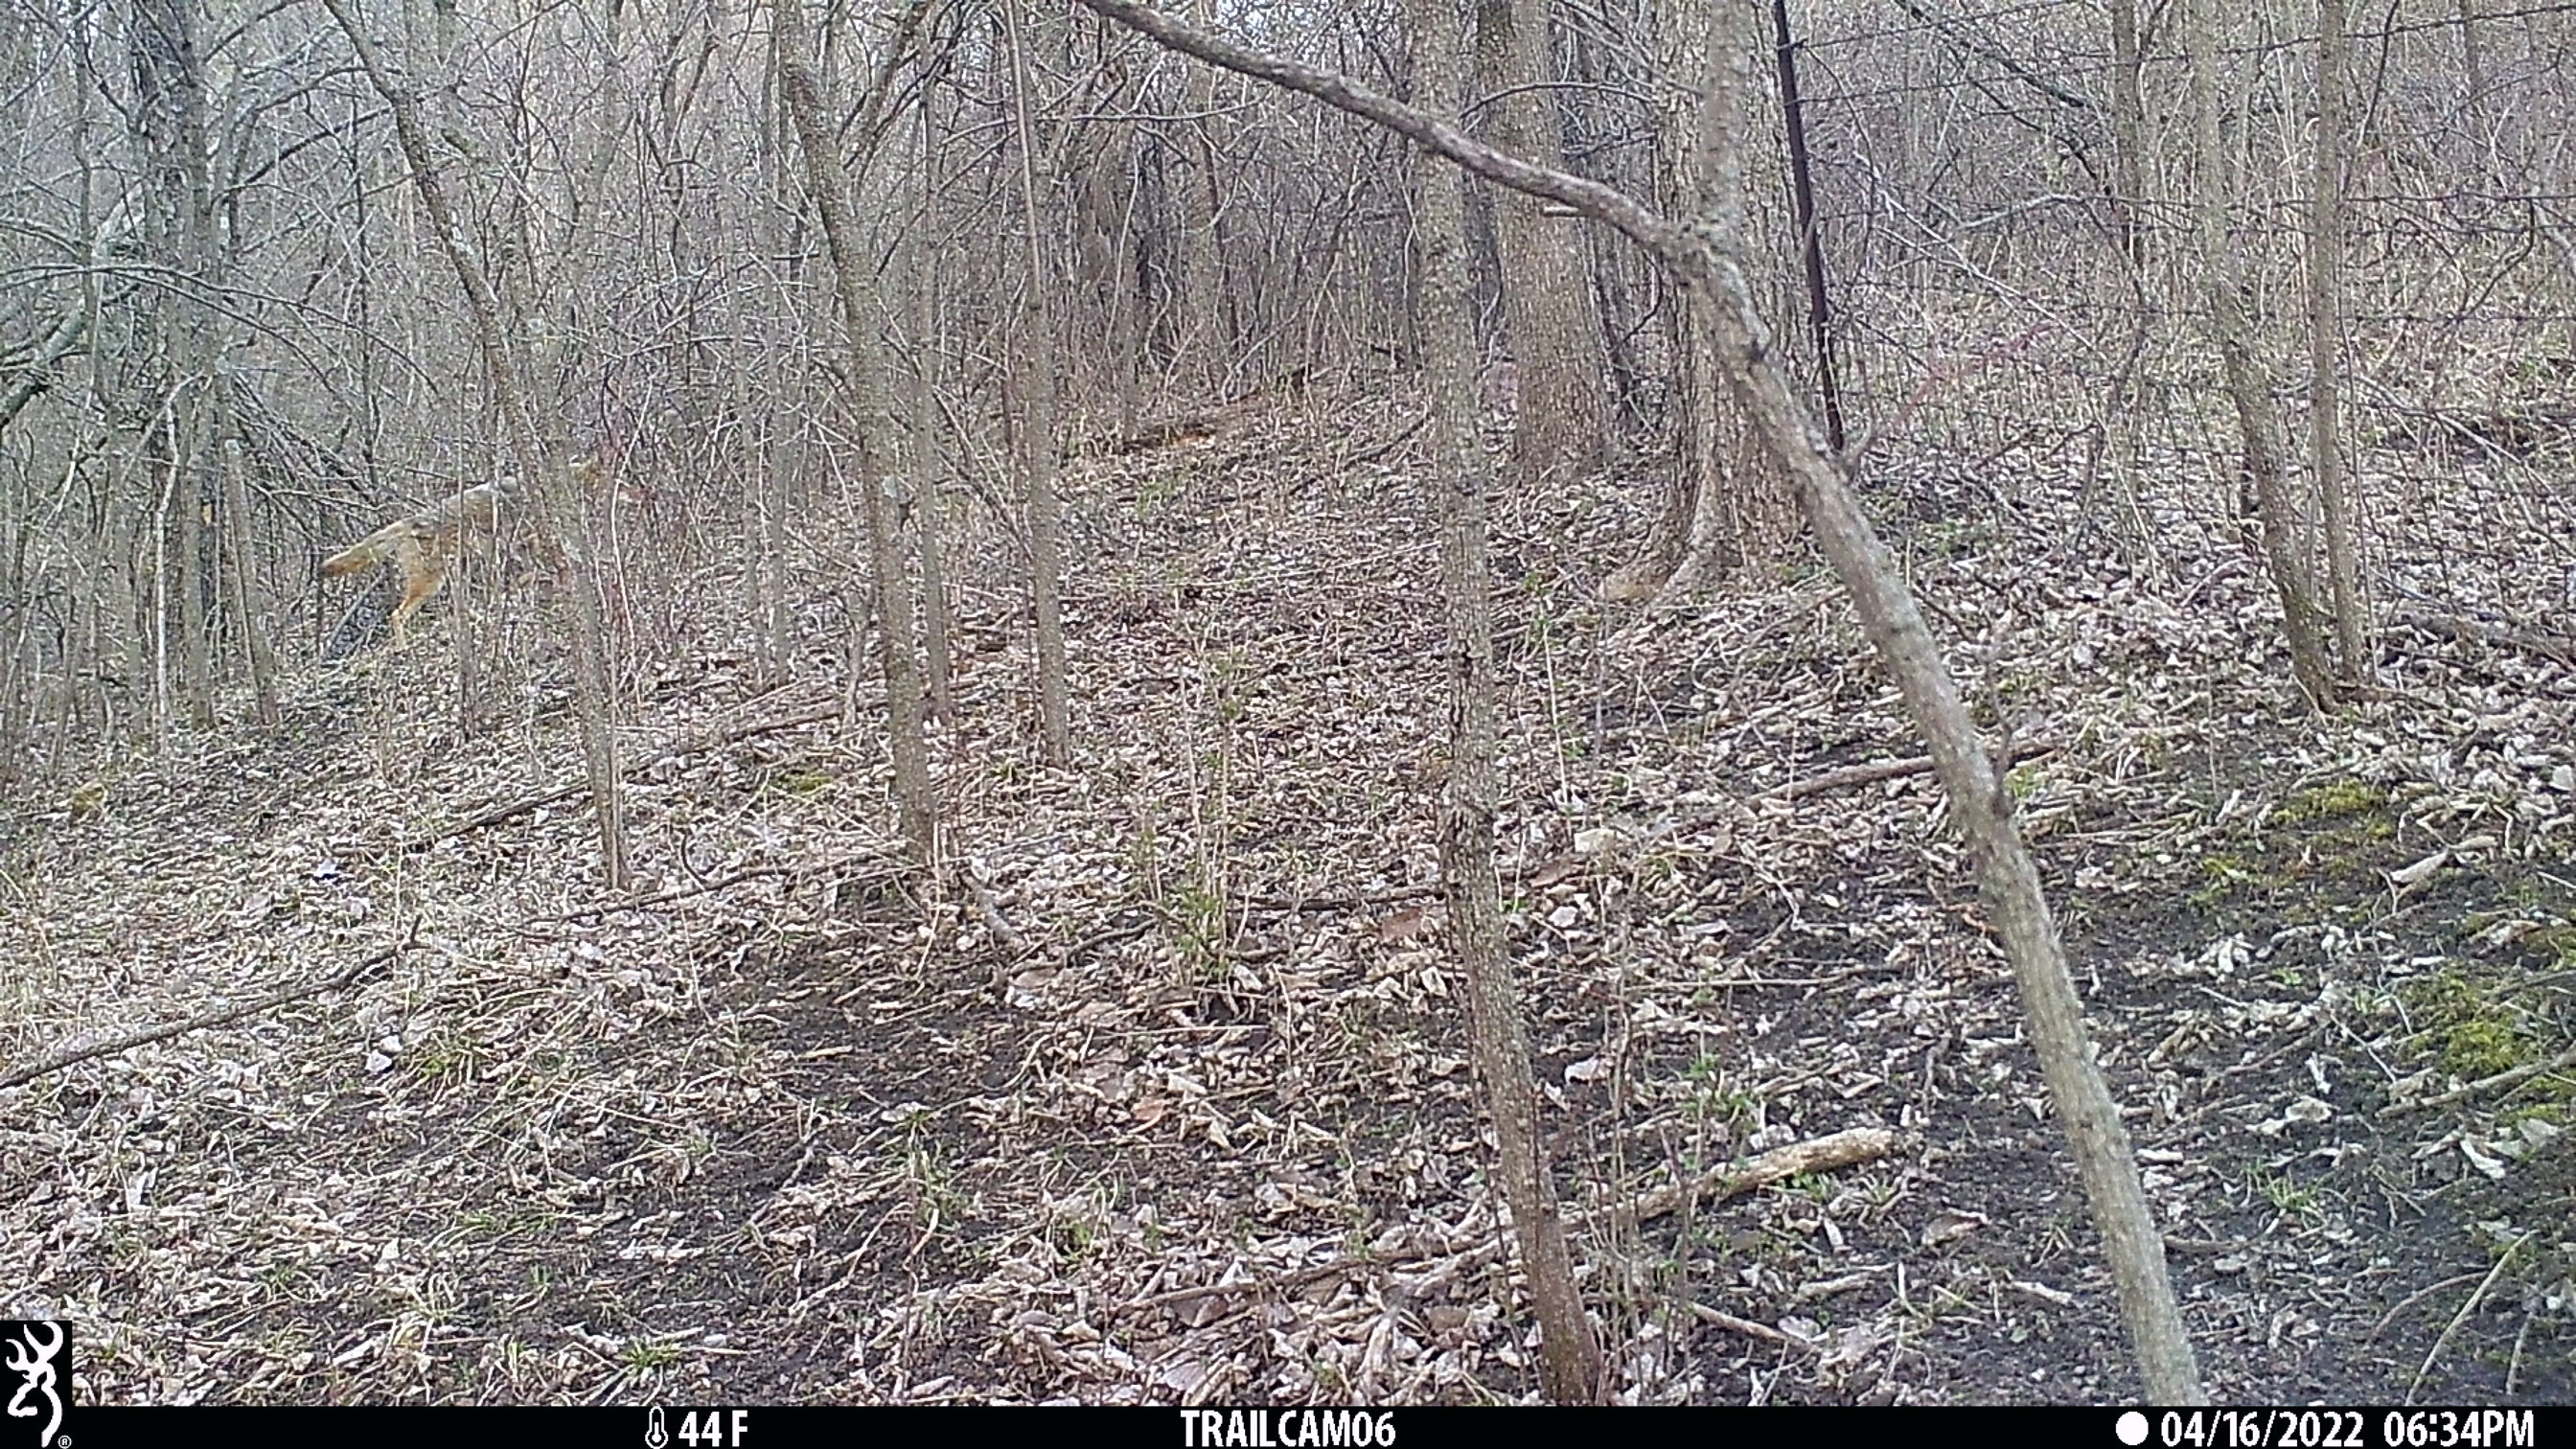Coyote: (315, 449, 640, 646)
